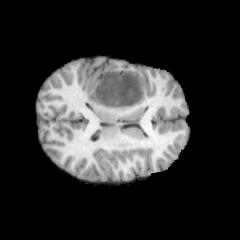glioma: (88, 70, 144, 109)
